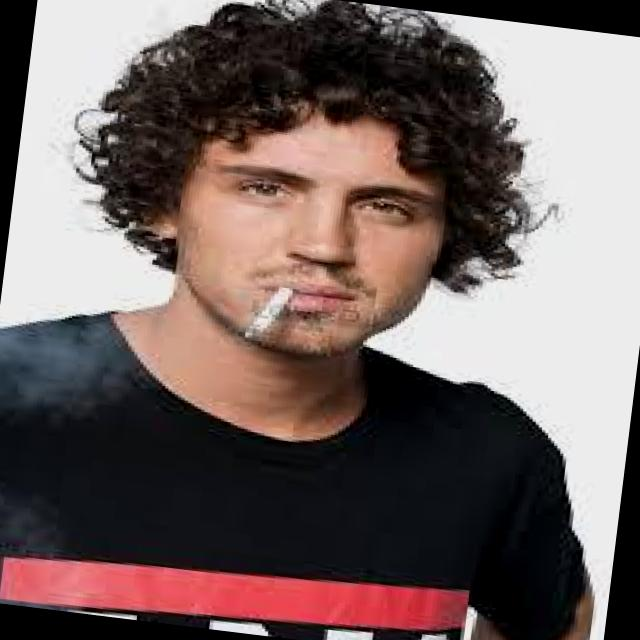cigarette: (222, 262, 312, 356)
